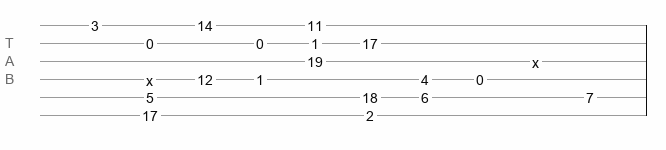0: (146, 36, 154, 46), (256, 36, 264, 46), (476, 72, 484, 82)
1: (256, 72, 264, 82), (311, 36, 319, 46)
11: (307, 18, 323, 28)
12: (197, 72, 213, 82)
14: (197, 18, 213, 28)
17: (142, 108, 158, 118), (362, 36, 378, 46)
18: (362, 90, 378, 100)
19: (307, 54, 323, 64)
2: (366, 108, 374, 118)
3: (91, 18, 99, 28)
4: (421, 72, 429, 82)
5: (146, 90, 154, 100)
6: (421, 90, 429, 100)
7: (586, 90, 594, 100)
x: (146, 73, 153, 81), (532, 55, 539, 63)
